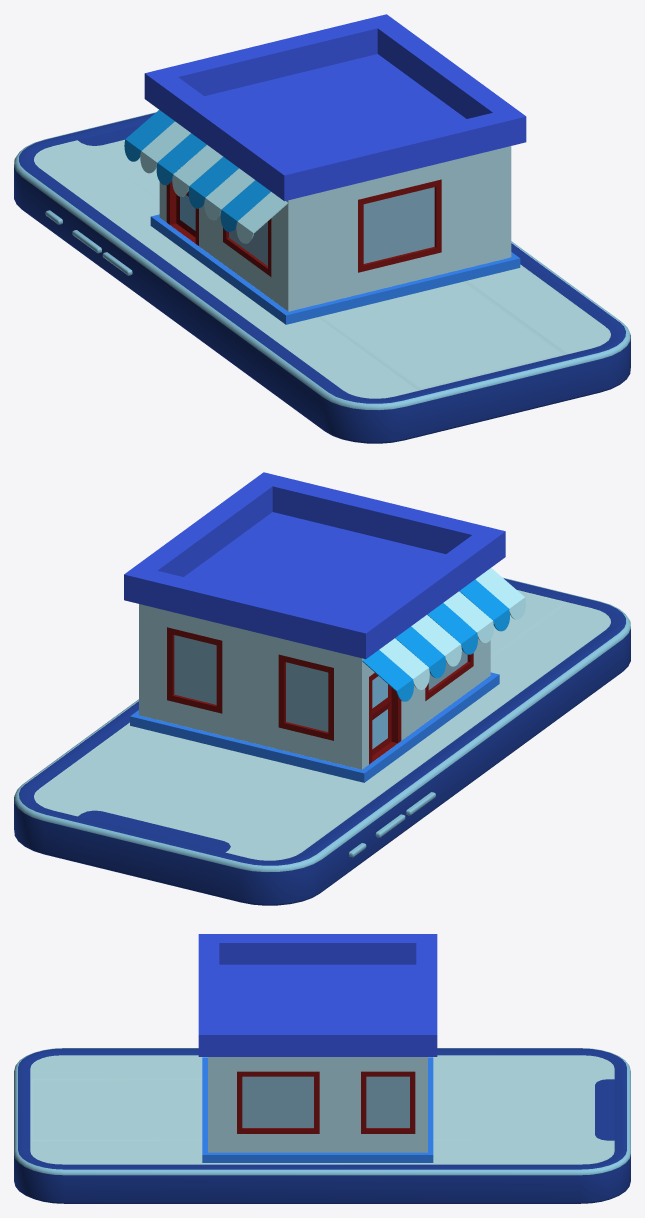
File: sceneo-transformed.glb
3 views of the same model, one above another, from view 1: azimuth 30°, elevation 25°; view 2: azimuth 150°, elevation 25°; view 3: azimuth 270°, elevation 25° (orthographic). The views are drawn at different scales.
Parts seen in each view (by area): view 1: Object_10, Object_6, Object_2, Object_12, Object_3, Object_11, Object_13, Object_5, Object_4, Object_9; view 2: Object_10, Object_6, Object_2, Object_12, Object_3, Object_13, Object_11, Object_9, Object_4, Object_5, Object_7; view 3: Object_6, Object_10, Object_2, Object_12, Object_13, Object_3, Object_11, Object_9.
Boxes of the visible parts, x1,y1,x2,y2 form: Object_10: (144, 14, 526, 201); Object_6: (34, 139, 610, 398); Object_2: (14, 113, 630, 443); Object_12: (159, 146, 511, 311); Object_3: (14, 112, 630, 410); Object_11: (150, 214, 520, 324); Object_13: (229, 187, 434, 265); Object_5: (140, 121, 287, 243); Object_4: (124, 110, 270, 231); Object_9: (166, 179, 441, 276); Object_10: (124, 472, 505, 659); Object_6: (34, 590, 610, 860); Object_2: (14, 578, 630, 905); Object_12: (139, 604, 490, 769); Object_3: (14, 577, 630, 871); Object_13: (174, 635, 467, 731); Object_11: (130, 672, 499, 782); Object_9: (167, 627, 473, 764); Object_4: (362, 579, 509, 701); Object_5: (379, 568, 525, 689); Object_7: (372, 676, 387, 749); Object_6: (30, 1055, 614, 1164); Object_10: (198, 934, 437, 1056); Object_2: (14, 1048, 630, 1203); Object_12: (208, 1057, 427, 1152); Object_13: (242, 1076, 409, 1127); Object_3: (14, 1048, 630, 1175); Object_11: (202, 1057, 433, 1162); Object_9: (237, 1071, 415, 1133).
Bounding box in the file's own units: 6.6 × 3.94 × 13.57.
